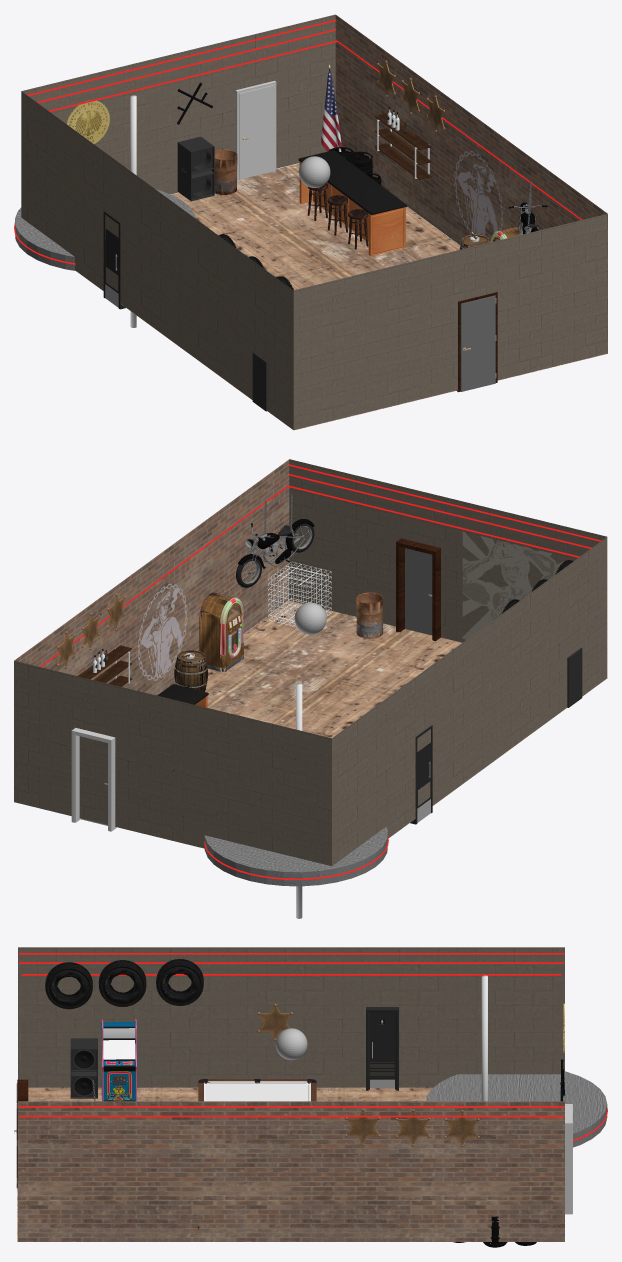
The model's file is bar_phone.glb.
3 renders of one model, top to bottom at view 1: azimuth 30°, elevation 25°; view 2: azimuth 150°, elevation 25°; view 3: azimuth 270°, elevation 25°, orthographic.
Visible parts, largest first — view 1: shortwall, longwall 2, back wall, longwall, floor, Kitchen Counter 001, Door_main.001, Door_main, Stage Speaker 60x60x120.001, stencil 2, stage, Plane.002 (+13 smaller); view 2: back wall, longwall 2, shortwall, longwall, floor, stage, wall stencil, Plane.017, engine, Door_main.001, stencil 2, Customizable Cage.001 (+12 smaller); view 3: longwall, longwall 2, stage, floor, MsPacMan, table, neom.001, neom, 1 PORTA BANHEIRO_.002, Michelin Truck Tire.002, Michelin Truck Tire.001, Michelin Truck Tire.004 (+11 smaller).
Boxes of the visible parts, box(x1,y1,x2,y2) form: shortwall: box(293, 213, 607, 429); longwall 2: box(21, 91, 293, 429); back wall: box(21, 14, 335, 194); longwall: box(335, 15, 607, 245); floor: box(75, 163, 607, 430); Kitchen Counter 001: box(298, 150, 406, 255); Door_main.001: box(460, 295, 496, 391); Door_main: box(239, 85, 274, 179); Stage Speaker 60x60x120.001: box(177, 136, 214, 201); stencil 2: box(454, 151, 503, 242); stage: box(15, 189, 195, 270); Plane.002: box(374, 113, 431, 179); back wall: box(14, 661, 331, 866); longwall 2: box(332, 537, 607, 865); shortwall: box(289, 459, 606, 642); longwall: box(14, 459, 289, 695); floor: box(175, 600, 607, 837); stage: box(204, 827, 387, 886); wall stencil: box(462, 531, 564, 639); Plane.017: box(199, 592, 244, 672); engine: box(236, 519, 314, 587); Door_main.001: box(405, 548, 432, 635); stencil 2: box(137, 583, 187, 680); Customizable Cage.001: box(268, 561, 331, 627); longwall: box(18, 1101, 564, 1241); longwall 2: box(18, 947, 564, 1087); stage: box(425, 1071, 607, 1147); floor: box(17, 1087, 432, 1241); MsPacMan: box(101, 1019, 136, 1101); table: box(198, 1079, 316, 1101); neom.001: box(19, 962, 564, 1117); neom: box(19, 953, 564, 1107); 1 PORTA BANHEIRO_.002: box(370, 1012, 394, 1088); Michelin Truck Tire.002: box(98, 960, 146, 1006); Michelin Truck Tire.001: box(45, 962, 92, 1009); Michelin Truck Tire.004: box(156, 959, 203, 1005).
Size of what is drawn, in the model's own units: 8.73 by 5.6 by 13.03.
Materials: 135 (73 with a texture image).
